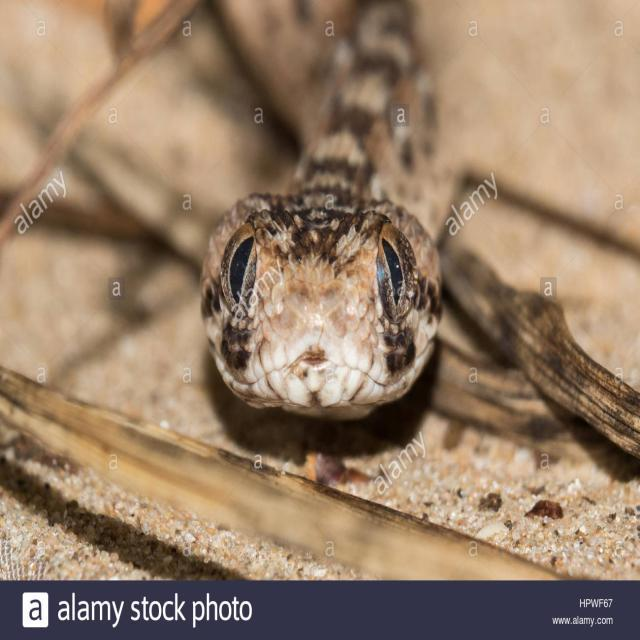Snake: (201, 0, 448, 415)
